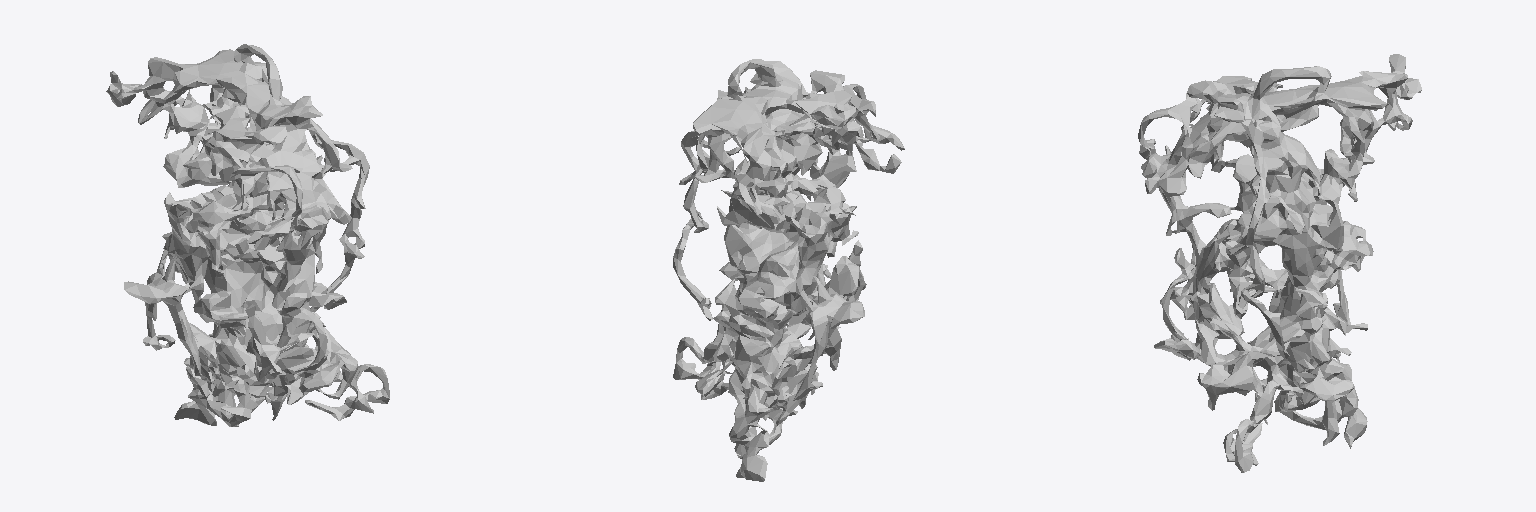
Rendered from 80bfec825ff5_A_wild_vine_min.obj.
3 renders of one model, left to right at view 1: azimuth 30°, elevation 25°; view 2: azimuth 150°, elevation 25°; view 3: azimuth 270°, elevation 25°, orthographic.
Visible parts, largest first — view 1: mesh; view 2: mesh; view 3: mesh.
Boxes of the visible parts, box(x1,y1,x2,y2) form: mesh: box(106, 44, 389, 426); mesh: box(673, 59, 904, 481); mesh: box(1138, 54, 1421, 472).
Size of the model in its own units: 0.6068 by 1 by 0.6607.